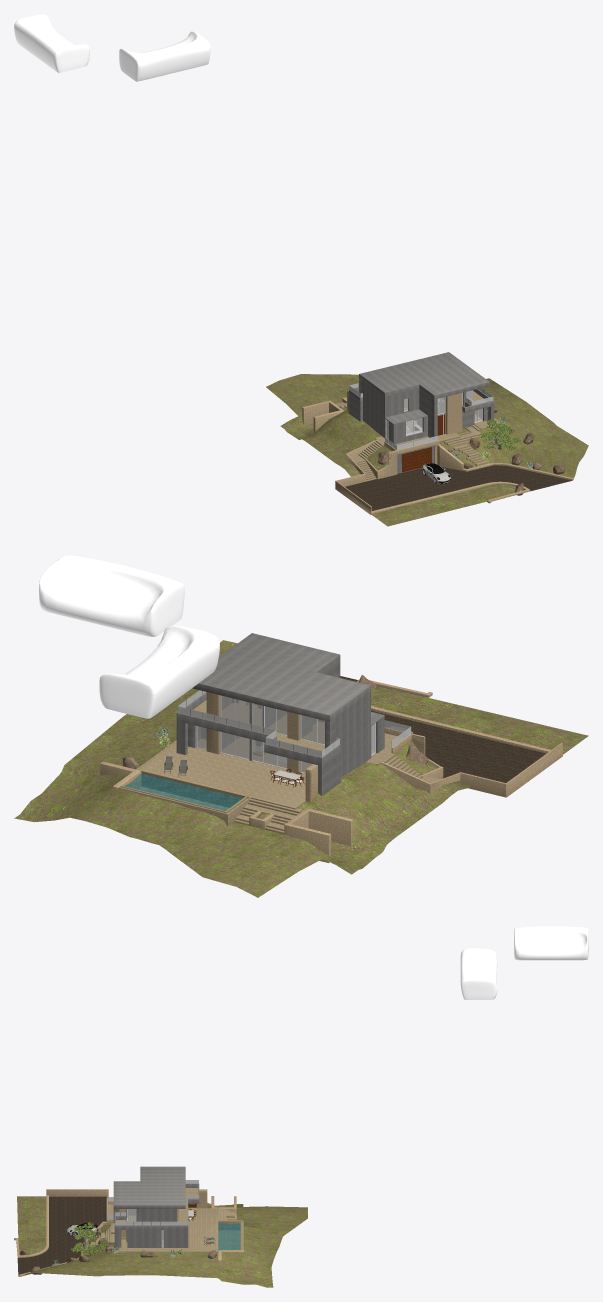
File: kaydan-villa-production-web.glb
3 renders of one model, top to bottom at view 1: azimuth 30°, elevation 25°; view 2: azimuth 150°, elevation 25°; view 3: azimuth 270°, elevation 25°, orthographic. The views are drawn at different scales.
Parts seen in each view (by area): view 1: Plane, Plane.003, Modern Living Room, Plane.006, Plane.004; view 2: Plane, Plane.003, Modern Living Room, Plane.006, Water, Cube.003, Plane.004, Cube, Cube.015, Cube.022, Cube.001, Cube.025; view 3: Plane.003, Plane, Modern Living Room, Plane.006, Water, Cube.003.
Boxes of the visible parts, x1,y1,x2,y2 form: Plane: [302, 352, 573, 514]; Plane.003: [266, 374, 588, 526]; Modern Living Room: [14, 14, 210, 81]; Plane.006: [345, 465, 571, 510]; Plane.004: [371, 481, 530, 513]; Plane: [100, 633, 562, 862]; Plane.003: [14, 640, 588, 897]; Modern Living Room: [39, 555, 219, 718]; Plane.006: [340, 676, 545, 782]; Water: [124, 773, 242, 810]; Cube.003: [177, 690, 339, 757]; Plane.004: [357, 679, 550, 753]; Cube: [220, 731, 249, 759]; Cube.015: [220, 695, 249, 723]; Cube.022: [300, 715, 324, 745]; Cube.001: [252, 739, 287, 769]; Cube.025: [264, 706, 287, 735]; Plane.003: [17, 1196, 307, 1287]; Plane: [18, 1166, 243, 1276]; Modern Living Room: [460, 926, 588, 999]; Plane.006: [17, 1196, 107, 1274]; Water: [218, 1223, 240, 1249]; Cube.003: [115, 1180, 198, 1225].
Size of the model in its own units: 41.77 by 42.98 by 88.29.
Materials: 58 (41 with a texture image).
